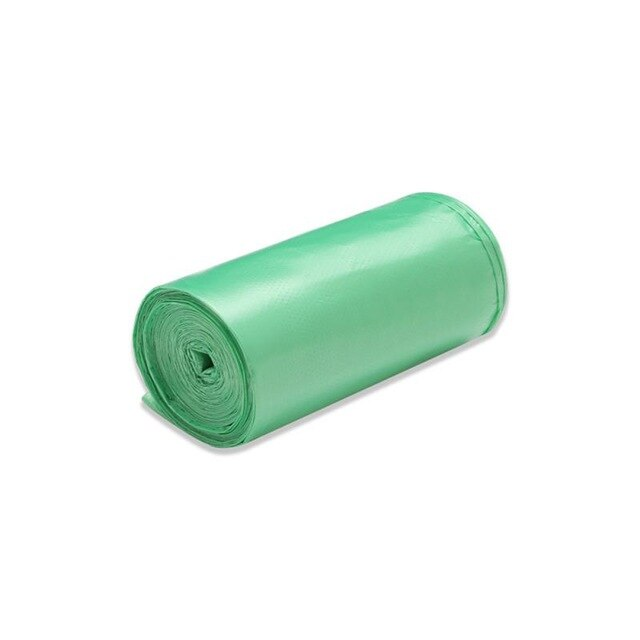plastic_bagwdw: (88, 142, 546, 490)
